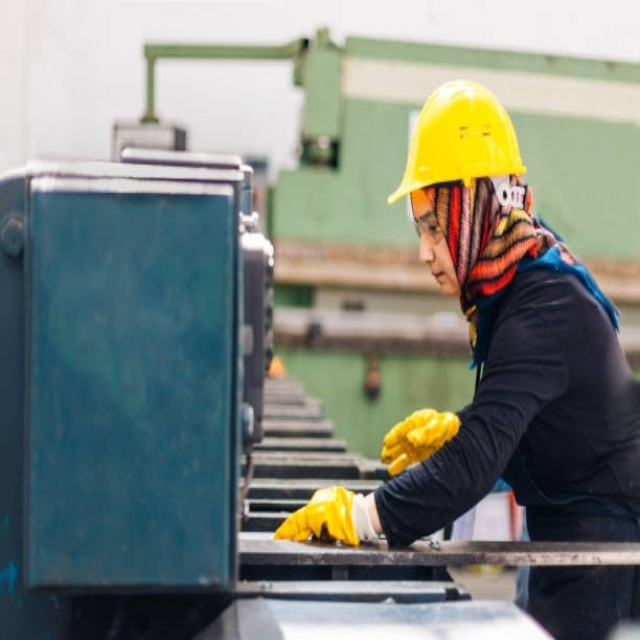Gafas: (410, 207, 444, 248)
Guantes: (273, 486, 371, 546), (382, 407, 461, 475)
Sin_mascara: (428, 260, 456, 296)
